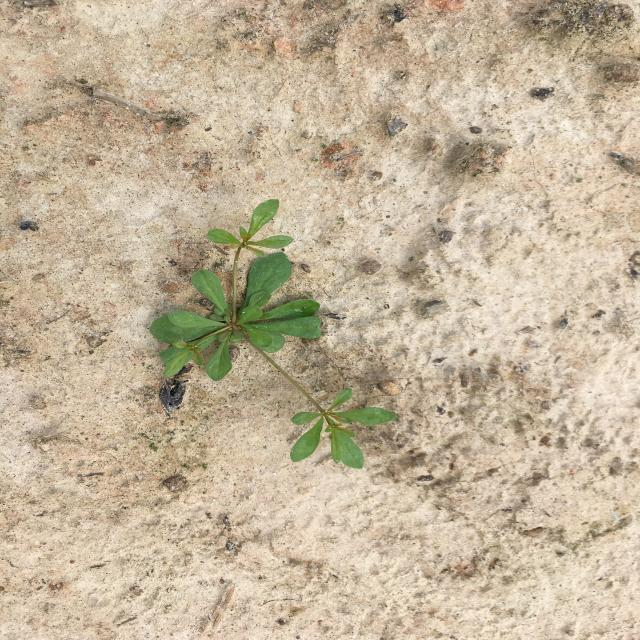Carpetweed: (149, 199, 397, 469)
